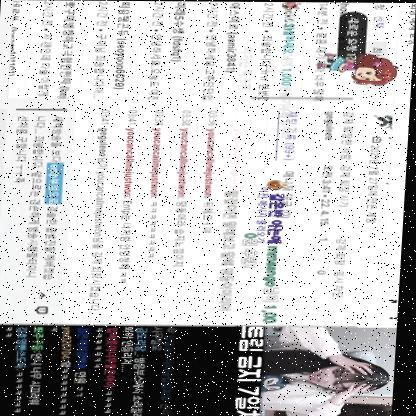donation: (235, 1, 404, 138), (218, 179, 290, 323)
streamer: (268, 327, 398, 416)
